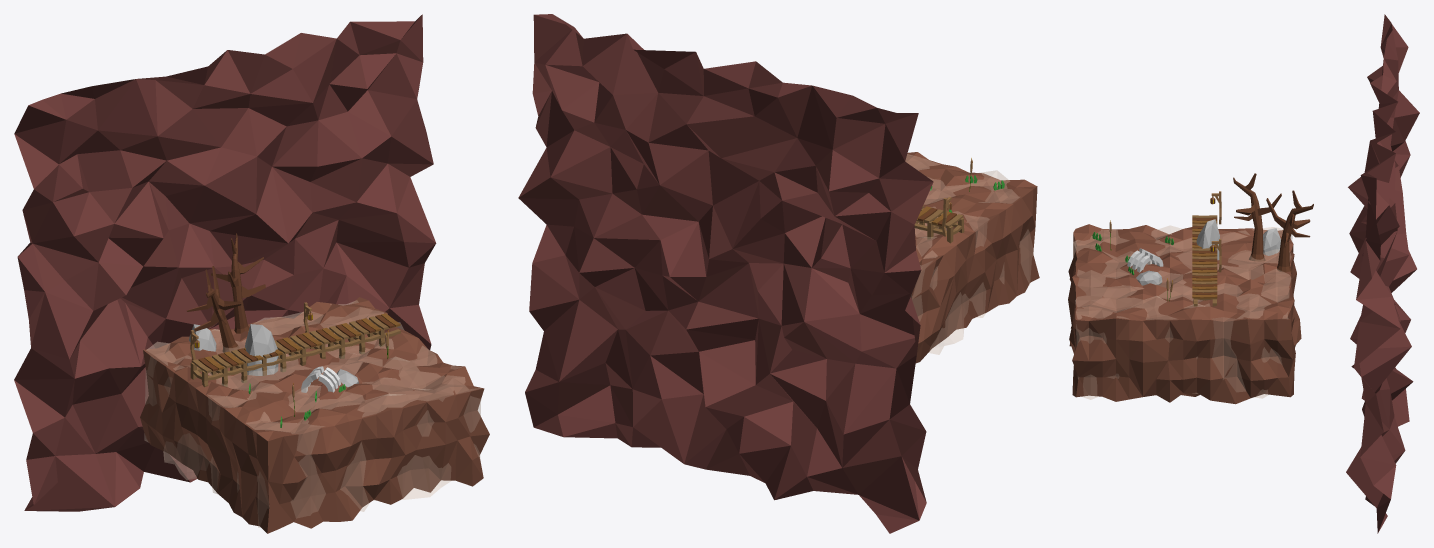
File: Tile2.fbx
The picture shows the model from 3 angles, left to right: view 1: azimuth 30°, elevation 25°; view 2: azimuth 150°, elevation 25°; view 3: azimuth 270°, elevation 25°; orthographic projection. The views are drawn at different scales.
Visible parts, largest first — view 1: Plane.005, Plane.004, Plane.003, Cylinder.018, Cylinder.022, Icosphere.013, Cube.009, Cube.057, Cube.027, Cube.026, Cube.010, Cube.024; view 2: Plane.005, Plane.004, Plane.003; view 3: Plane.004, Plane.005, Plane.003, Cylinder.022, Cylinder.018, Cube.057, Icosphere.013, Icosphere.002.
Part boxes in pixels (left/top/right/bottom): Plane.005: left=14, top=14, right=436, bottom=511; Plane.004: left=140, top=297, right=489, bottom=533; Plane.003: left=144, top=300, right=480, bottom=527; Cylinder.018: left=187, top=266, right=241, bottom=352; Cylinder.022: left=211, top=233, right=265, bottom=333; Icosphere.013: left=245, top=324, right=278, bottom=375; Cube.009: left=190, top=356, right=224, bottom=387; Cube.057: left=301, top=366, right=340, bottom=392; Cube.027: left=348, top=318, right=381, bottom=354; Cube.026: left=328, top=323, right=361, bottom=358; Cube.010: left=210, top=351, right=243, bottom=386; Cube.024: left=288, top=332, right=321, bottom=365; Plane.005: left=518, top=14, right=933, bottom=533; Plane.004: left=905, top=152, right=1039, bottom=363; Plane.003: left=906, top=154, right=1033, bottom=354; Plane.004: left=1068, top=224, right=1301, bottom=404; Plane.005: left=1346, top=14, right=1419, bottom=533; Plane.003: left=1073, top=225, right=1292, bottom=399; Cylinder.022: left=1266, top=190, right=1313, bottom=272; Cylinder.018: left=1233, top=173, right=1281, bottom=261; Cube.057: left=1127, top=248, right=1163, bottom=272; Icosphere.013: left=1196, top=219, right=1219, bottom=260; Icosphere.002: left=1263, top=228, right=1280, bottom=255.
Size of the model in its own units: 5169 by 5216 by 4586.
